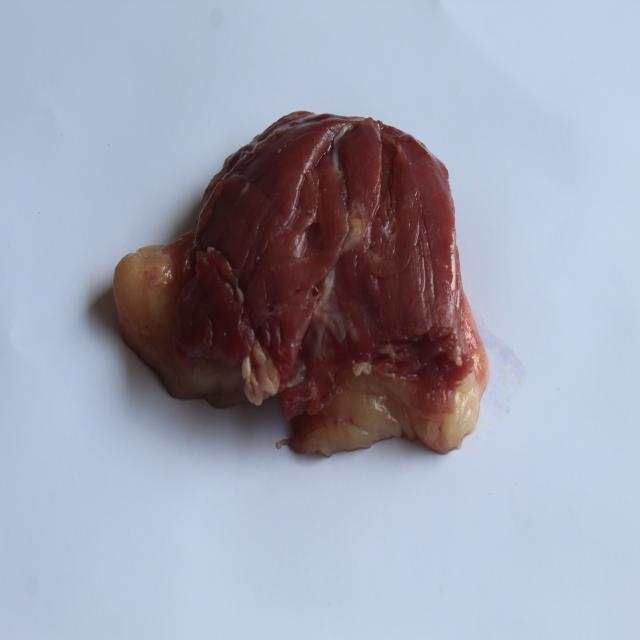beef: (90, 94, 504, 446)
